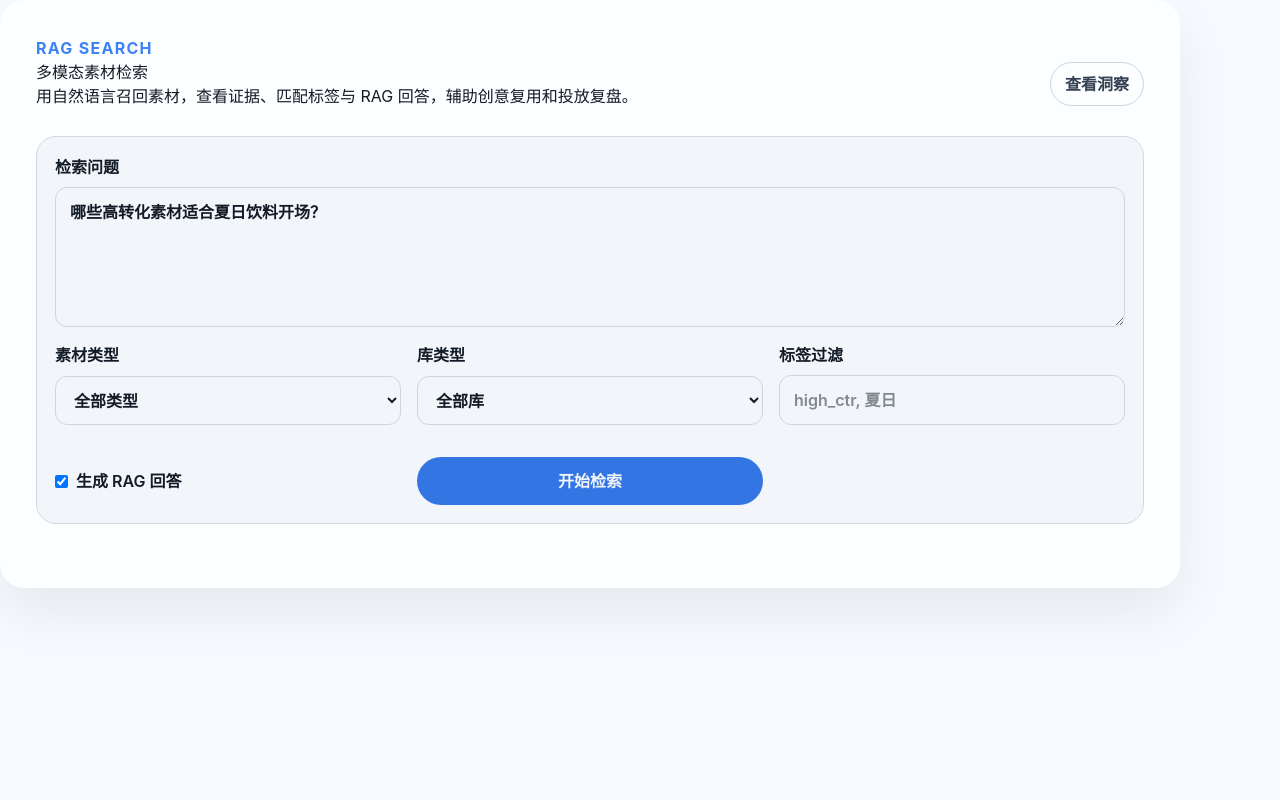
Test: MaterialSearchPage › 展示检索结果、证据和 RAG 回答
Click the button "开始检索": (590, 481) [417,457,763,505]
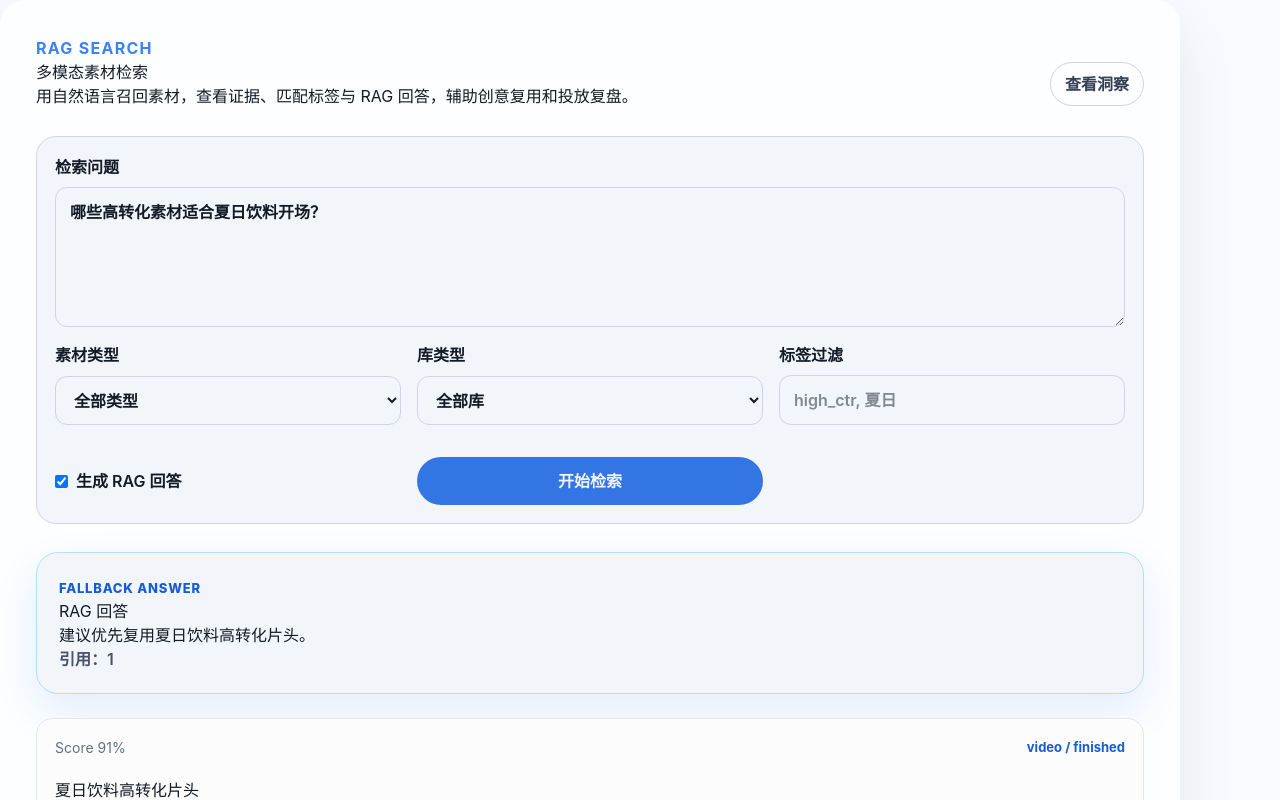
expect the heading "夏日饮料高转化片头" is shown: met, box [55,780,199,799]
expect the element "RAG 回答" shows "建议优先复用夏日饮料高转化片头。": met, box [59,625,315,645]
expect the text "引用：1" is shown: met, box [59,649,114,669]
